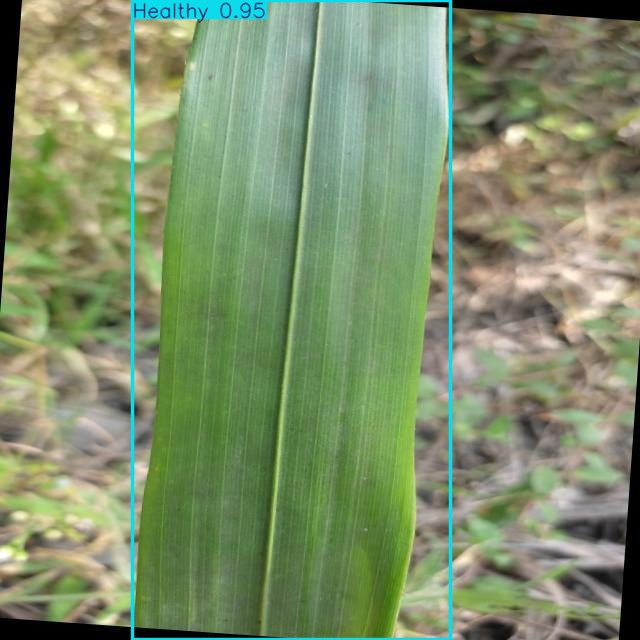Healthy: (132, 0, 451, 640)
